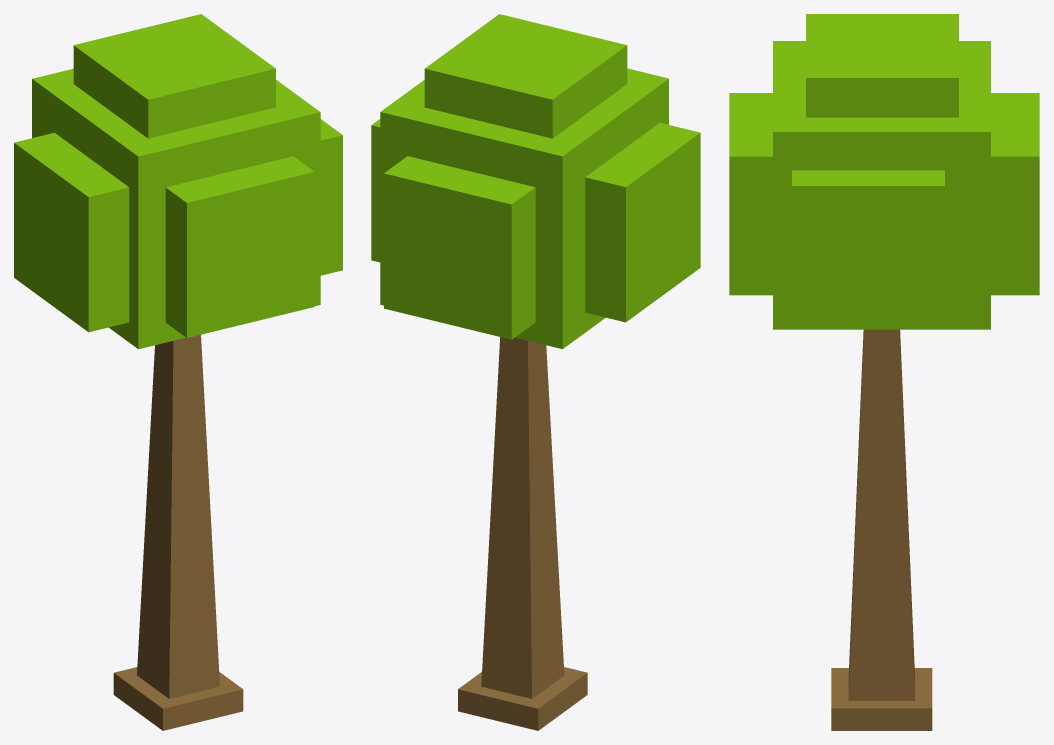
File: tree1.FBX
3 renders of one model, left to right at view 1: azimuth 30°, elevation 25°; view 2: azimuth 150°, elevation 25°; view 3: azimuth 270°, elevation 25°, orthographic. The views are drawn at different scales.
Visible parts, largest first — view 1: tree1; view 2: tree1; view 3: tree1.
Part boxes in pixels (box(x1,y1,x2,y2)): tree1: box(14, 14, 342, 730); tree1: box(371, 14, 700, 730); tree1: box(729, 14, 1039, 730).
Bounding box in the file's own units: 4.63 × 11.26 × 4.78.
